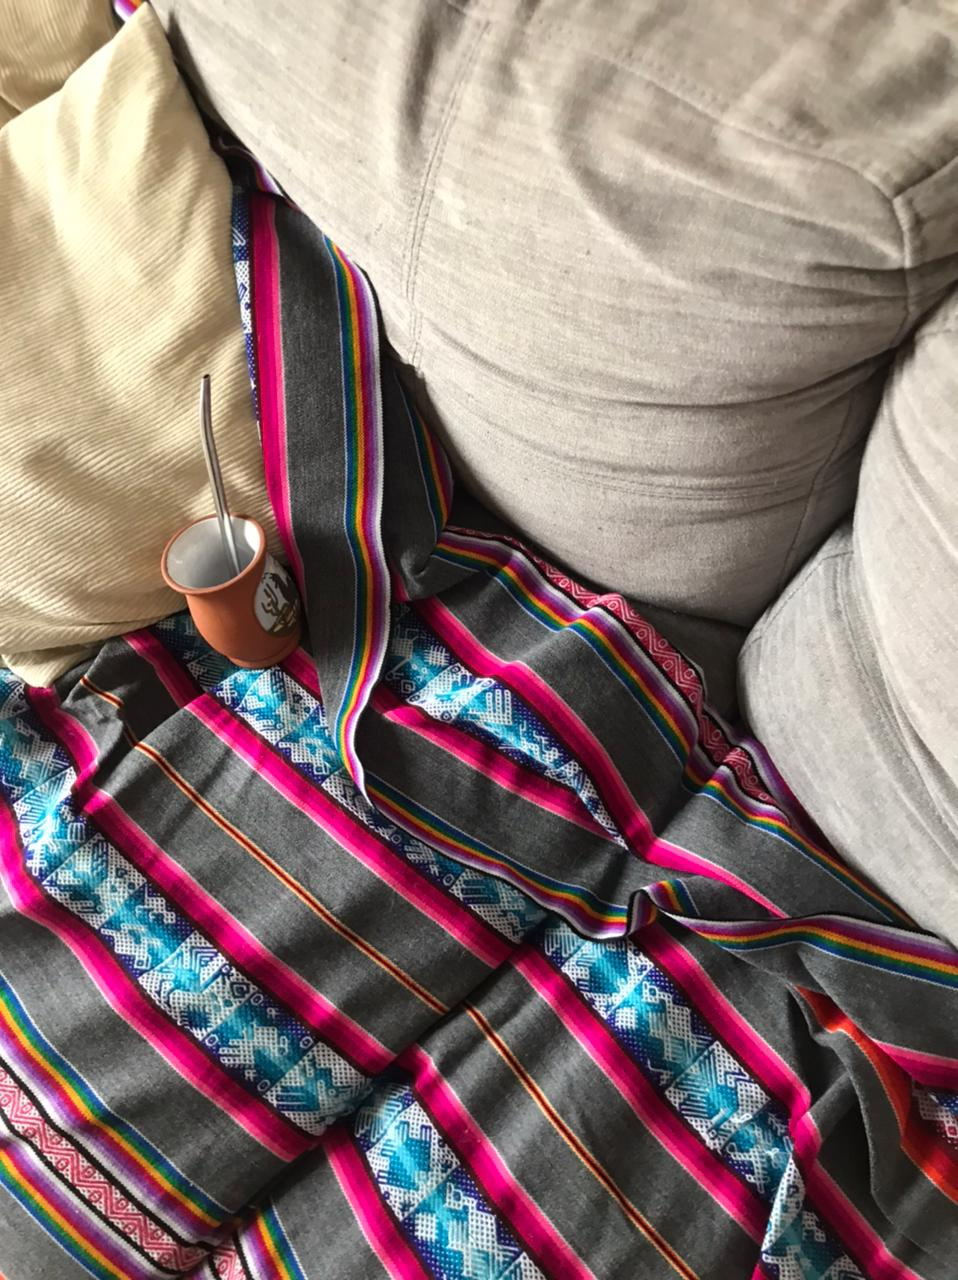mate: (143, 376, 330, 685)
